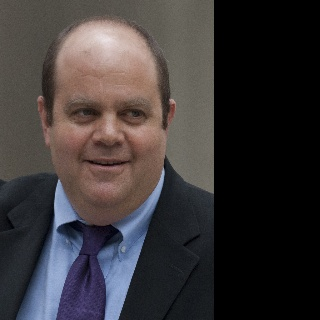without_mask: (48, 37, 163, 206)
